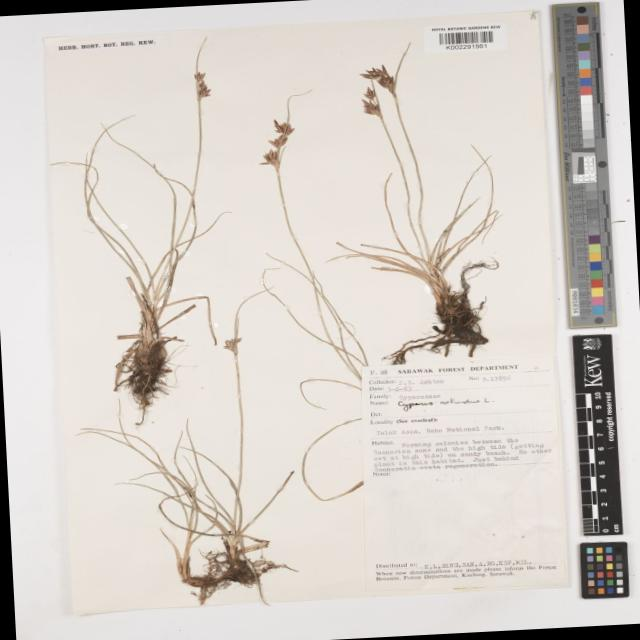cyperus: (342, 59, 414, 118), (246, 114, 301, 174), (188, 66, 215, 106)
